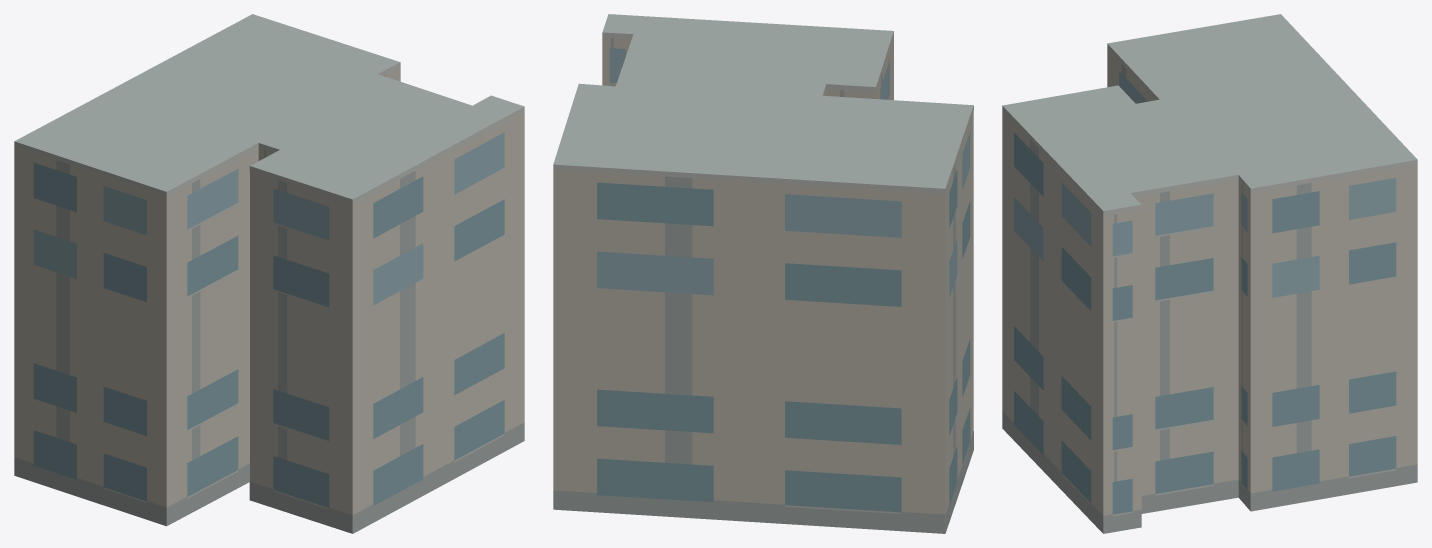
File: survey-upis-32549219.glb
The picture shows the model from 3 angles, left to right: view 1: azimuth 30°, elevation 25°; view 2: azimuth 150°, elevation 25°; view 3: azimuth 270°, elevation 25°; orthographic projection. The views are drawn at different scales.
Parts seen in each view (by area): view 1: survey-upis-32549219.tmp; view 2: survey-upis-32549219.tmp; view 3: survey-upis-32549219.tmp.
Part boxes in pixels (x1,y1,x2,y2): survey-upis-32549219.tmp: (14,14,524,533); survey-upis-32549219.tmp: (553,14,973,533); survey-upis-32549219.tmp: (1002,14,1417,533).
Size of the model in its own units: 21.62 by 16.5 by 19.26.
